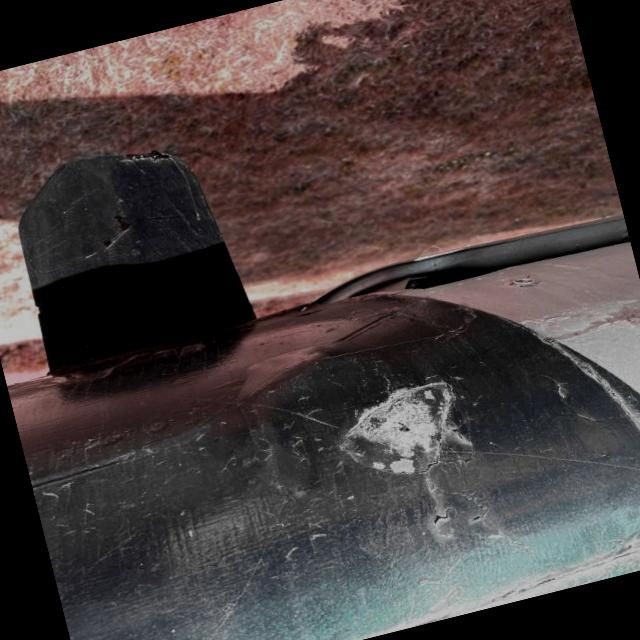crack: (424, 494, 504, 534)
dent: (321, 375, 485, 494)
